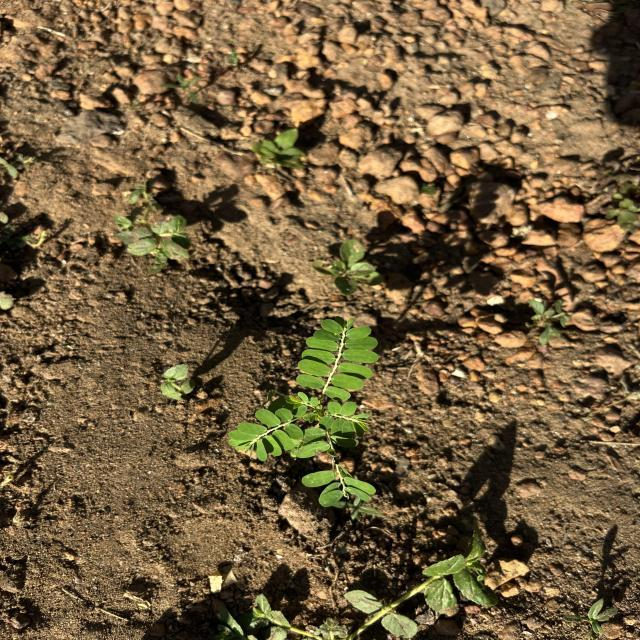Phyllanthus niruri: (296, 314, 380, 400), (225, 408, 305, 462), (318, 401, 374, 438)
